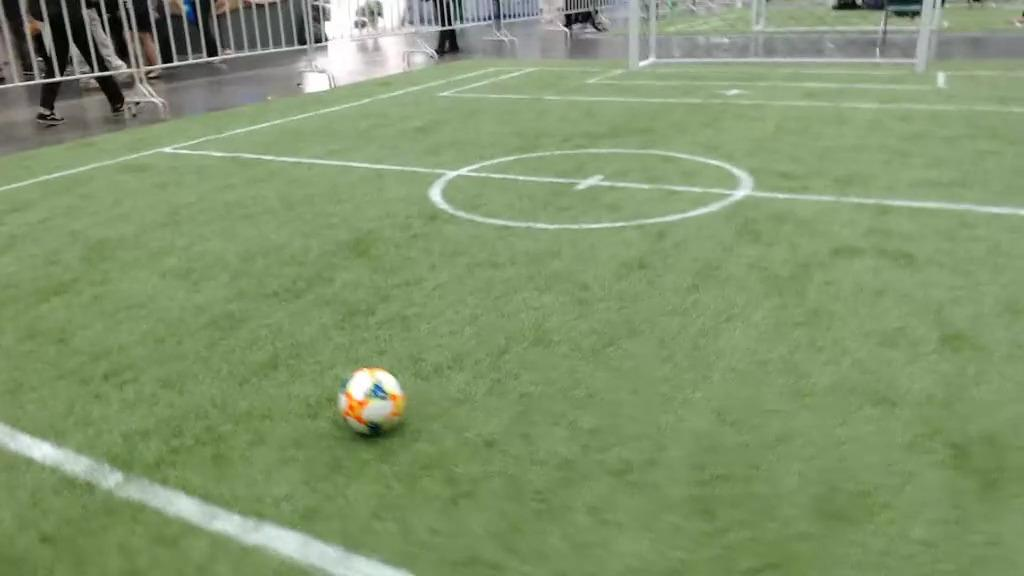ball: (336, 364, 404, 439)
